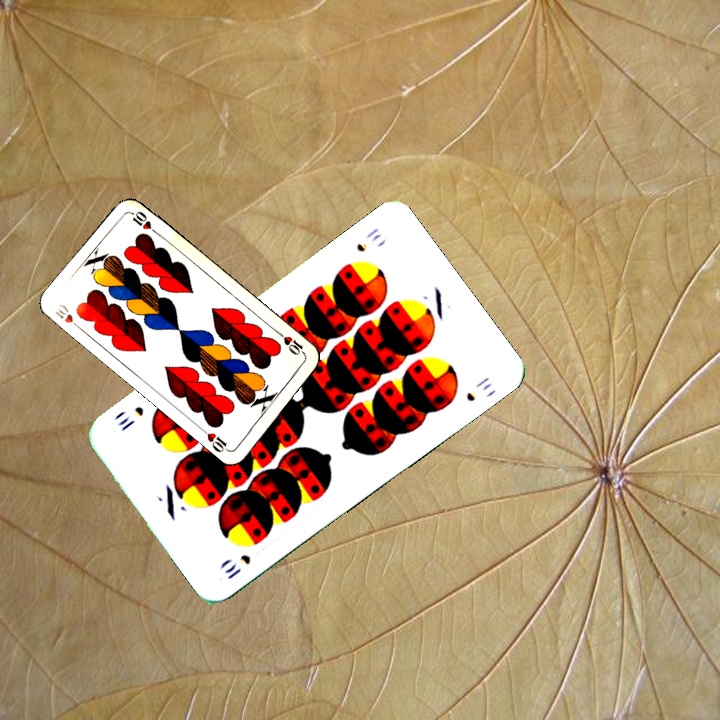H10: (51, 300, 85, 333), (274, 328, 308, 358)
S10: (220, 550, 254, 582), (352, 223, 384, 255)
